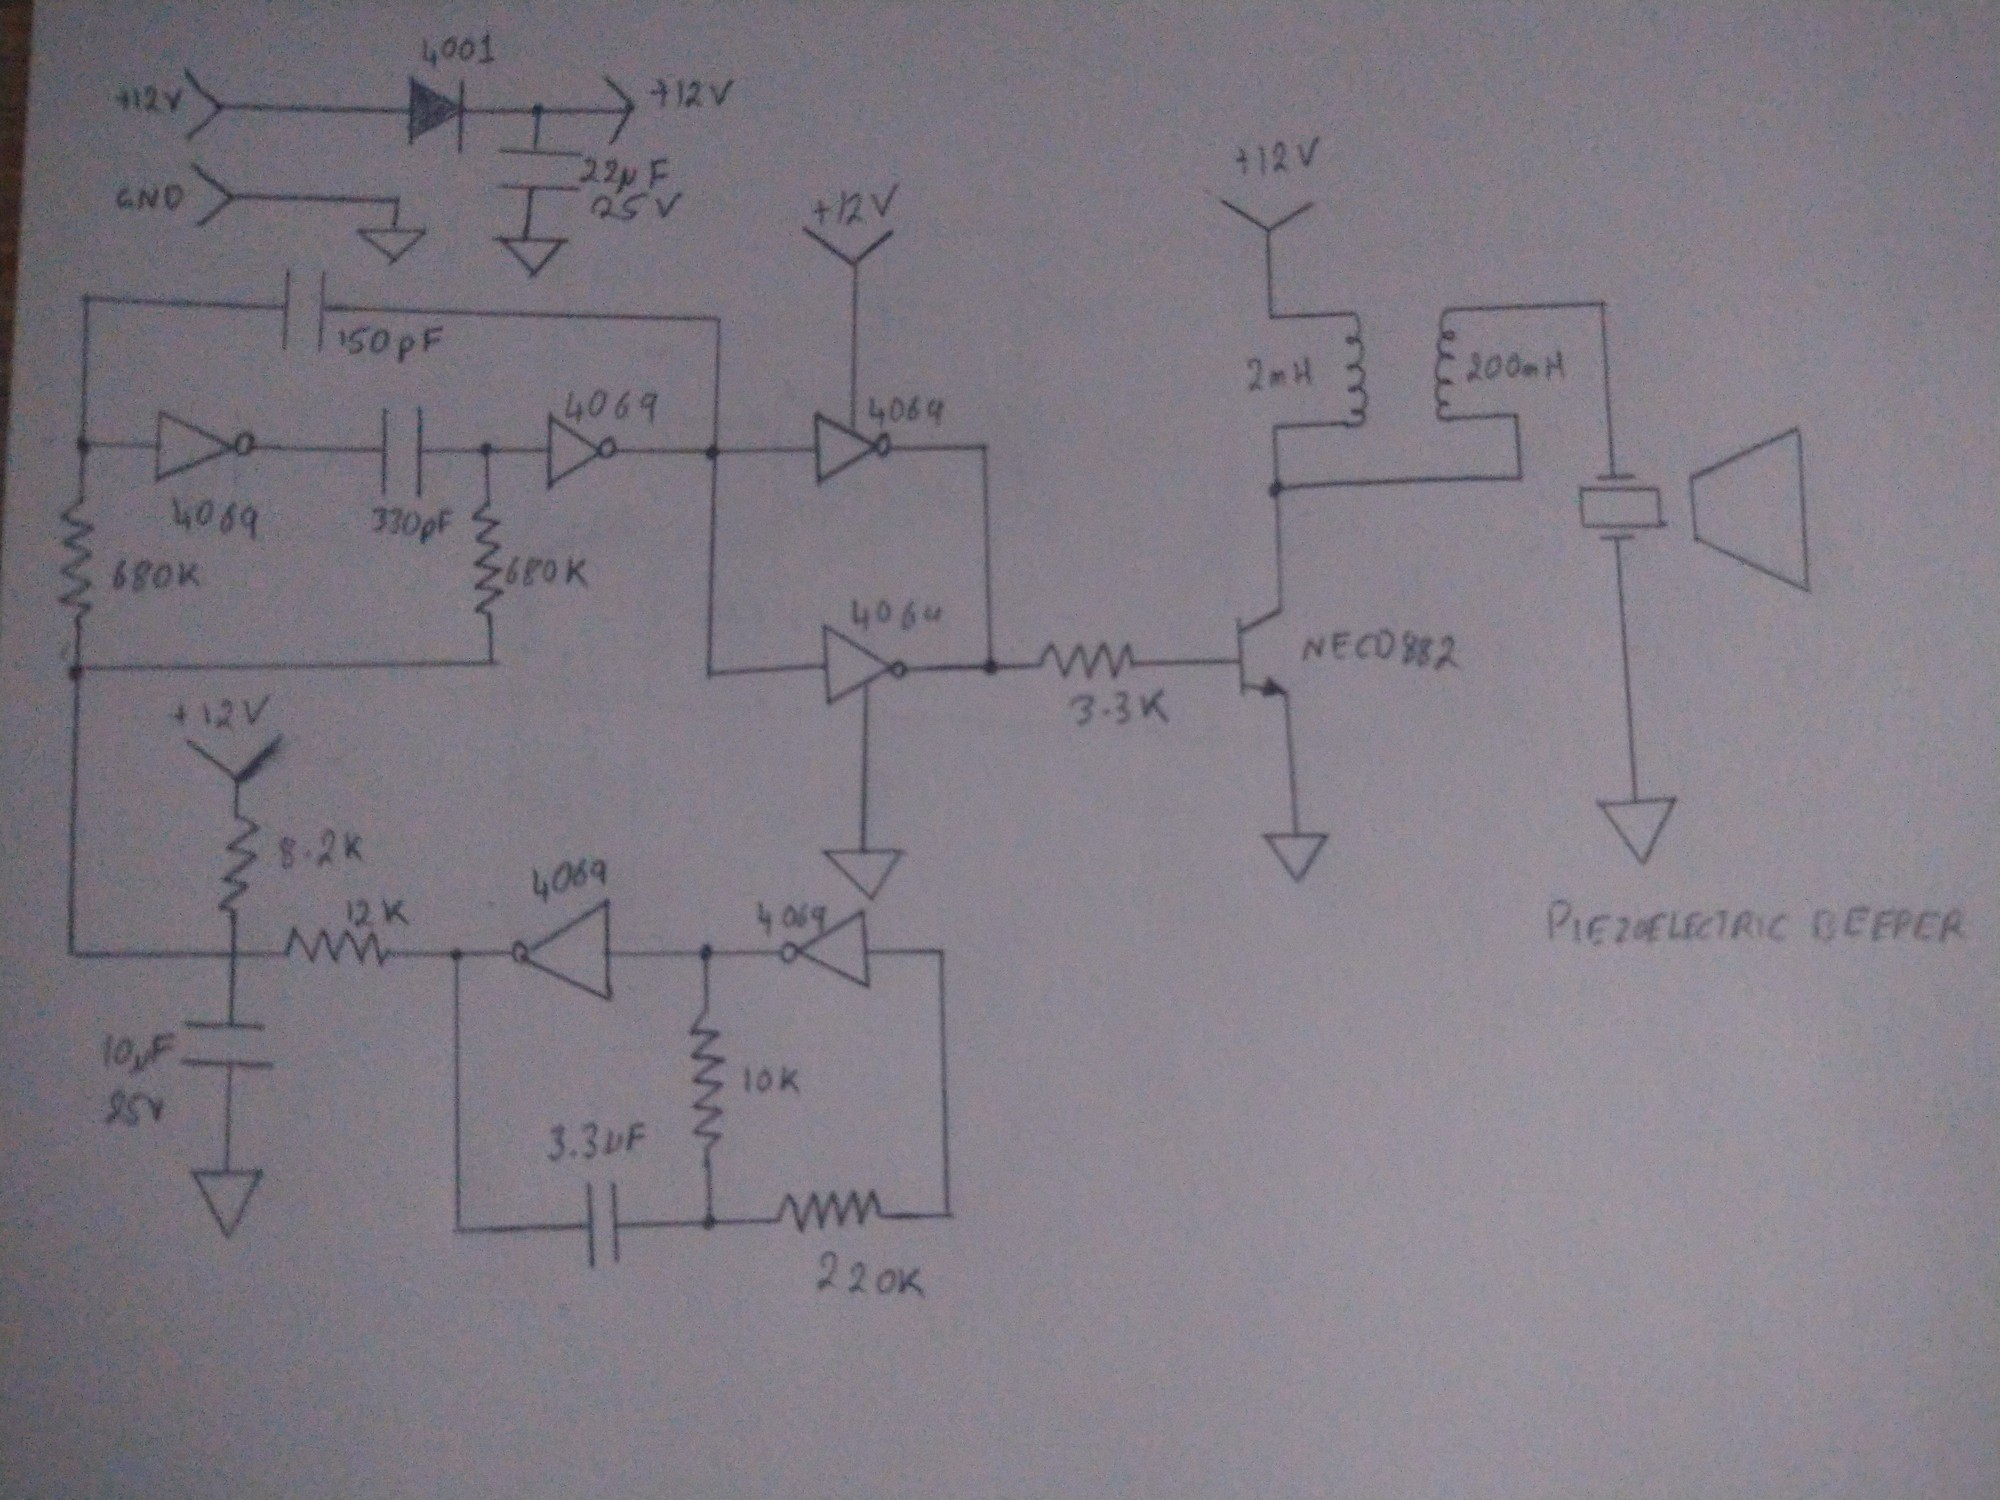capacitor.unpolarized: (367, 400, 436, 503), (176, 1013, 280, 1081), (268, 258, 335, 362), (573, 1172, 628, 1275), (490, 142, 587, 199)
crossover: (217, 941, 247, 967)
diode: (397, 66, 471, 161)
gnd: (1589, 789, 1691, 870), (183, 1158, 271, 1243), (816, 838, 912, 904), (1255, 826, 1335, 890), (491, 232, 573, 282), (353, 224, 428, 269)
inductor: (1420, 303, 1461, 432), (1339, 301, 1375, 433)
junction: (696, 438, 742, 468), (68, 425, 102, 462), (691, 1205, 724, 1238), (690, 934, 723, 966), (58, 655, 93, 685), (698, 655, 728, 689), (1260, 474, 1290, 506), (932, 1202, 967, 1229), (975, 652, 1008, 679), (439, 942, 472, 967), (472, 433, 501, 462), (57, 941, 87, 967), (447, 1218, 472, 1243), (928, 937, 954, 961), (523, 98, 550, 121), (969, 436, 998, 455), (479, 648, 502, 671), (76, 282, 98, 307), (1512, 463, 1532, 488), (709, 307, 731, 329), (381, 191, 406, 210), (1592, 295, 1614, 314), (1263, 306, 1283, 325), (1266, 418, 1285, 436), (1504, 408, 1524, 422)
not: (498, 897, 625, 1007), (772, 908, 887, 996), (146, 402, 268, 481), (816, 621, 915, 709), (808, 408, 894, 490), (537, 410, 620, 490)
resistor: (47, 492, 109, 626), (679, 997, 731, 1155), (764, 1183, 893, 1238), (274, 922, 395, 978), (461, 495, 515, 622), (211, 808, 263, 923), (1035, 637, 1146, 684)
speaker: (1572, 422, 1819, 602)
terminal: (180, 731, 291, 789), (1211, 191, 1324, 239), (794, 224, 902, 273), (183, 156, 236, 238), (180, 63, 225, 143), (597, 69, 643, 147)
text: (1540, 895, 1976, 956), (1294, 621, 1472, 678), (808, 1245, 932, 1312), (539, 1116, 657, 1169), (1061, 679, 1178, 733), (332, 318, 450, 370), (164, 492, 271, 548), (269, 822, 370, 878), (805, 176, 902, 232), (1225, 131, 1331, 180), (524, 851, 616, 904), (91, 1023, 176, 1076), (364, 501, 457, 550), (502, 547, 597, 594), (109, 555, 206, 600), (557, 384, 665, 425), (167, 689, 272, 730), (1461, 347, 1569, 386), (846, 592, 946, 633), (580, 150, 672, 194), (93, 1082, 172, 1134), (584, 191, 687, 228), (748, 893, 828, 939), (649, 74, 737, 115), (106, 181, 194, 221), (734, 1057, 809, 1103), (106, 82, 183, 124), (1243, 351, 1317, 395), (865, 392, 953, 429), (414, 35, 502, 71), (335, 893, 413, 931)
transistor: (1227, 600, 1302, 704)
